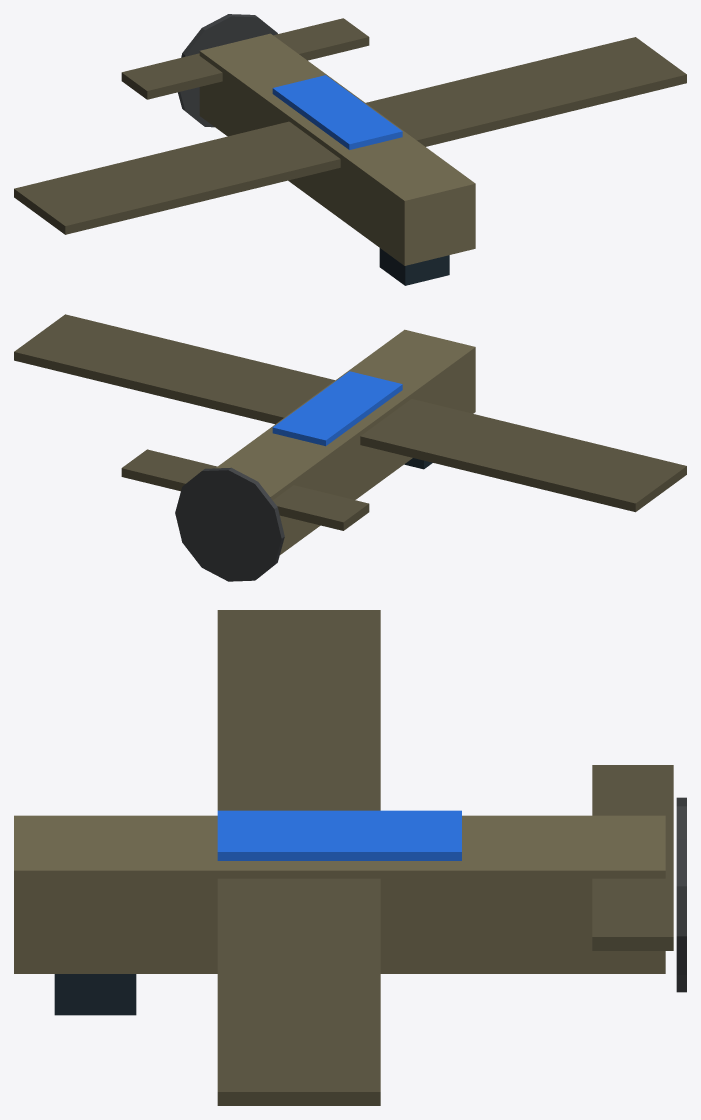
Rendered from us_recon_drone.glb.
The picture shows the model from 3 angles, top to bottom: view 1: azimuth 30°, elevation 25°; view 2: azimuth 150°, elevation 25°; view 3: azimuth 270°, elevation 25°; orthographic projection. The views are drawn at different scales.
Parts seen in each view (by area): view 1: wing, body, tail, team_plate, prop, camera_pod; view 2: wing, body, prop, tail, team_plate; view 3: body, wing, team_plate, tail, camera_pod, prop.
Part boxes in pixels (x1=…): wing: x1=14, y1=37, x2=686, y2=234; body: x1=199, y1=33, x2=475, y2=265; tail: x1=121, y1=18, x2=369, y2=99; team_plate: x1=272, y1=75, x2=402, y2=149; prop: x1=178, y1=14, x2=277, y2=127; camera_pod: x1=379, y1=248, x2=449, y2=285; wing: x1=14, y1=314, x2=686, y2=512; body: x1=215, y1=329, x2=475, y2=554; prop: x1=175, y1=467, x2=284, y2=581; tail: x1=121, y1=449, x2=369, y2=530; team_plate: x1=272, y1=371, x2=402, y2=446; body: x1=14, y1=815, x2=665, y2=973; wing: x1=217, y1=610, x2=380, y2=1105; team_plate: x1=217, y1=810, x2=461, y2=860; tail: x1=592, y1=765, x2=673, y2=950; camera_pod: x1=54, y1=974, x2=136, y2=1015; prop: x1=676, y1=797, x2=686, y2=992.
Size of the model in its own units: 2.24 by 0.416 by 1.32.
